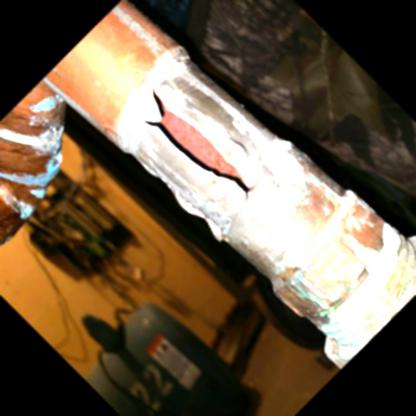burst: (155, 89, 258, 199)
